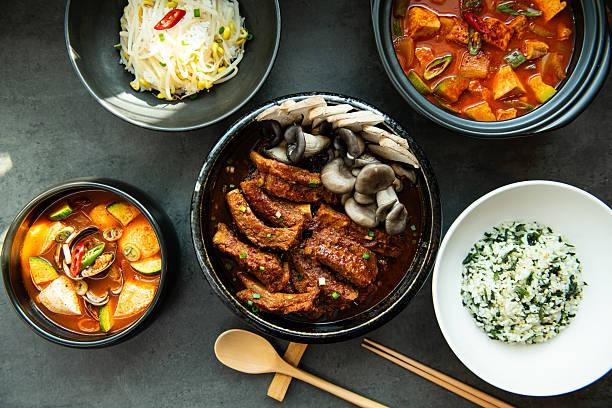Braised Crucian Carp: (189, 92, 434, 341), (431, 181, 612, 399), (372, 0, 600, 139), (0, 178, 174, 347), (67, 1, 276, 133)
